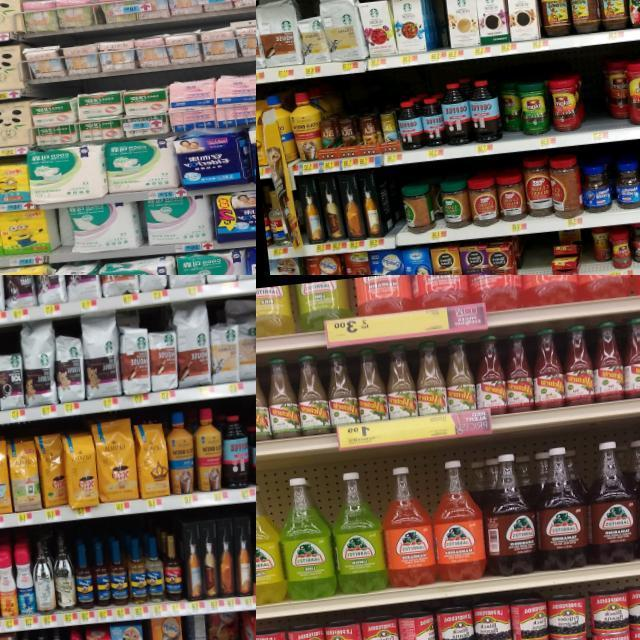Imprecise: (600, 57, 635, 129), (499, 83, 523, 142), (592, 228, 612, 274)
